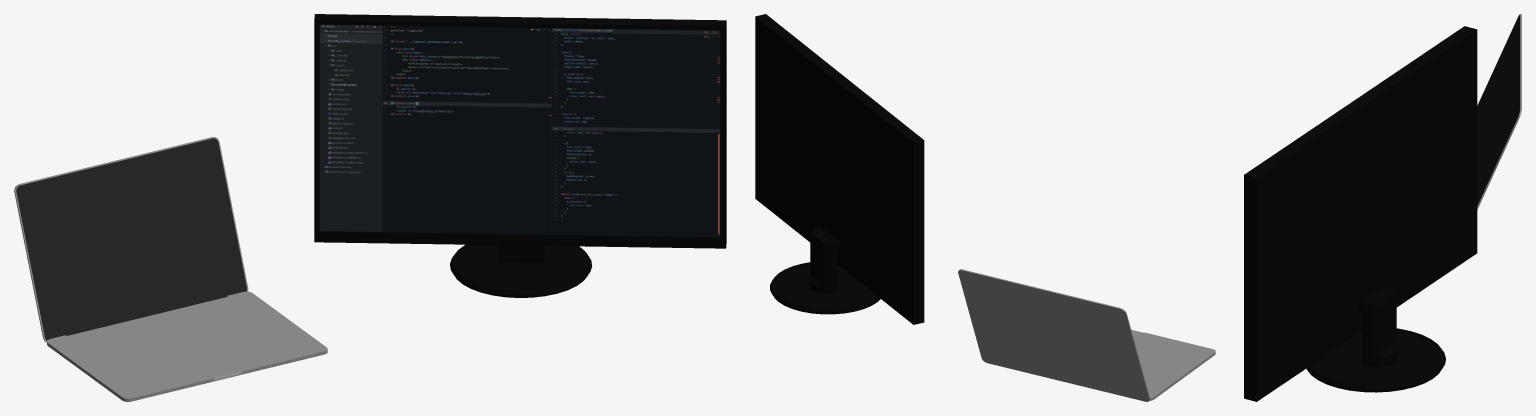
The model's file is desk.glb.
3 renders of one model, left to right at view 1: azimuth 30°, elevation 25°; view 2: azimuth 150°, elevation 25°; view 3: azimuth 270°, elevation 25°, orthographic. The views are drawn at different scales.
Parts seen in each view (by area): view 1: Monitor, Laptop Screen, Laptop Bottom, Stand Bottom, Stand; view 2: Monitor, Laptop Screen, Stand Bottom, Laptop Bottom, Stand; view 3: Monitor, Stand Bottom, Laptop Screen, Stand.
Part boxes in pixels (box(x1,y1,x2,y2)): Monitor: box(314, 14, 726, 248); Laptop Screen: box(14, 137, 248, 342); Laptop Bottom: box(47, 291, 327, 401); Stand Bottom: box(450, 244, 592, 297); Stand: box(497, 245, 544, 263); Monitor: box(755, 14, 924, 324); Laptop Screen: box(958, 269, 1149, 401); Stand Bottom: box(770, 262, 880, 314); Laptop Bottom: box(1131, 330, 1215, 400); Stand: box(809, 226, 836, 293); Monitor: box(1244, 26, 1477, 401); Stand Bottom: box(1306, 328, 1445, 392); Laptop Screen: box(1477, 14, 1521, 209); Stand: box(1362, 284, 1397, 366).
Size of the model in its own units: 9.42 by 3.95 by 3.86.
4 materials, 1 textured.
